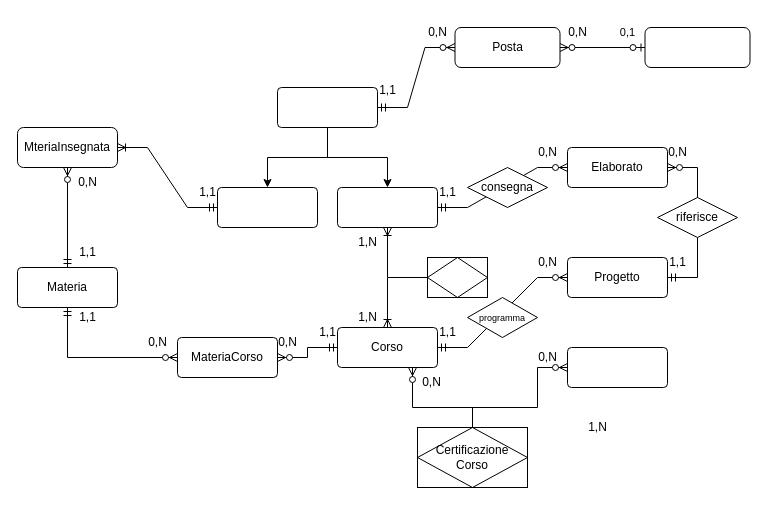
Some shapes in this 768 by 505 pixel diagram are drawn without their labels. Here are the shapes that lost their labels. From the top down, the centre of each, then its label:
the point at 697,47: TipoAllegatpo
the point at 327,107: Utente
the point at 267,207: Docente
the point at 387,207: Studente
the point at 457,277: StudenteCorso
the point at 617,367: Certificazione
